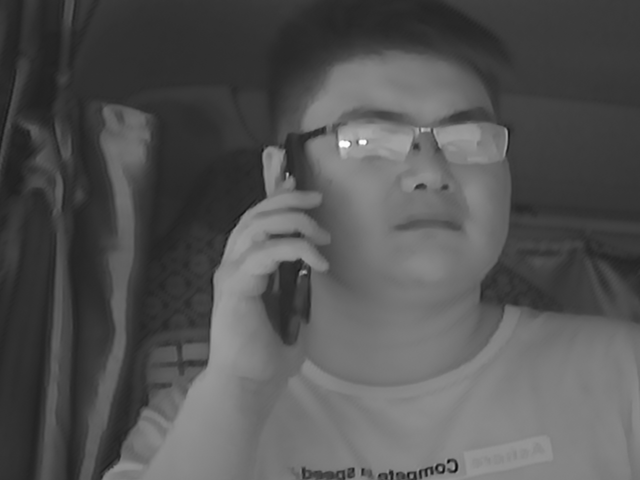hand: (196, 189, 322, 369)
